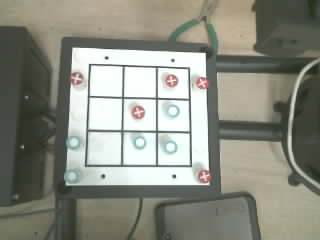blue circle: (64, 169, 81, 184), (66, 136, 81, 150), (164, 141, 177, 153), (167, 104, 179, 117), (134, 136, 145, 149)
board: (64, 48, 211, 185)
cells: (87, 132, 120, 164), (158, 133, 190, 165), (123, 133, 155, 164), (123, 99, 155, 130), (89, 98, 121, 129), (90, 66, 122, 96), (158, 68, 189, 98), (158, 100, 189, 130), (124, 67, 155, 97)
grid: (85, 64, 191, 166)
red cross: (165, 74, 178, 87), (70, 72, 83, 85), (198, 170, 211, 183), (132, 105, 144, 119), (196, 77, 208, 88)
